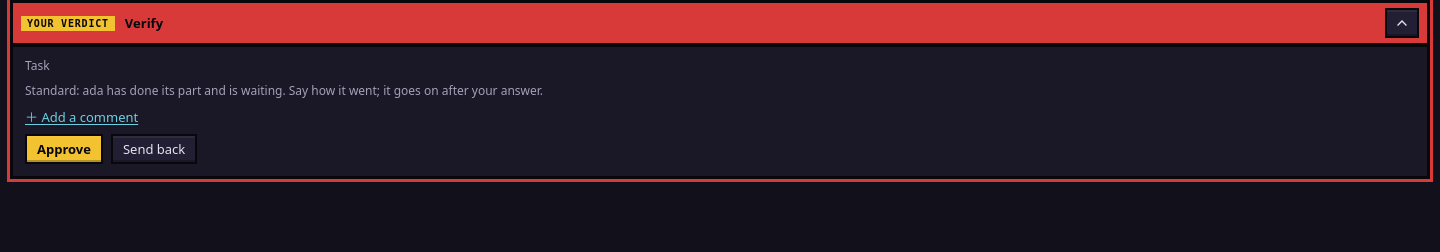
Test case: the workflow cards in an agent's chat › a person's step with no words of its own says Approve and Send back, and sending it back needs words
Click the button "Send back": (154, 149) [111,134,197,164]
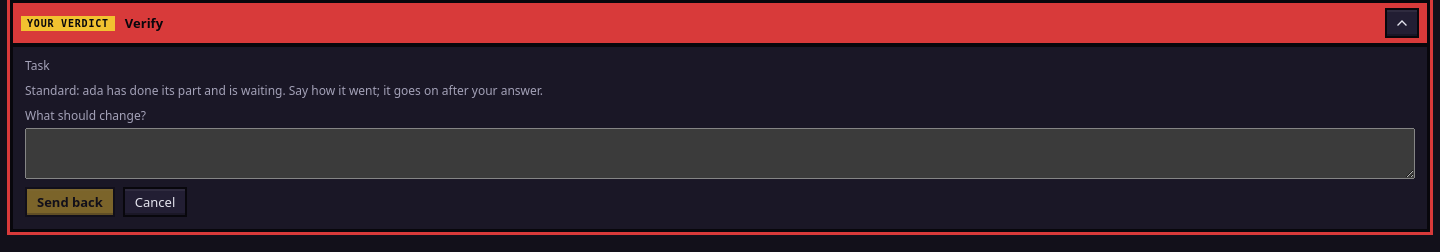
Check: the button "Send back" is disabled, box [25,187,115,217]
